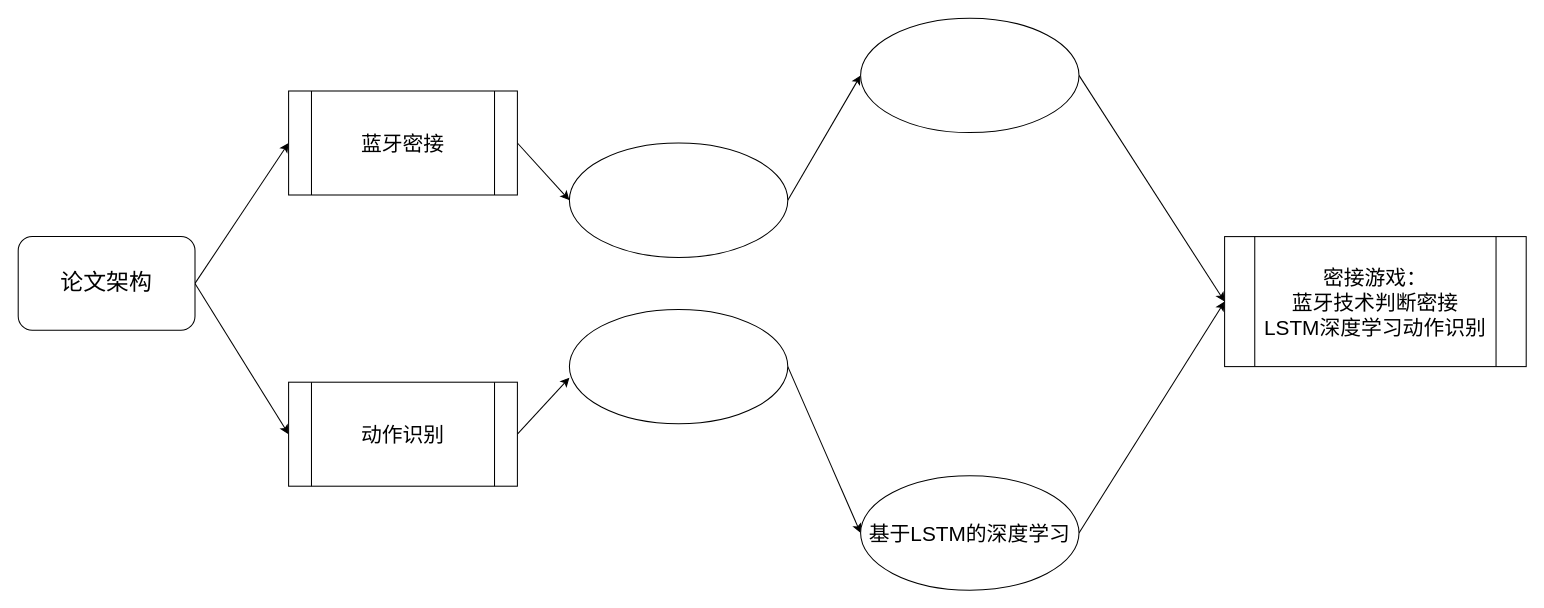
Some shapes in this 1544 by 608 pixel diagram are drawn without their labels. Here are the shapes that lost their labels. From the top down, the box of each, then its label:
(860, 17, 1079, 133): 基于蓝牙技术的密接
(568, 142, 788, 257): 蓝牙技术优缺点
(568, 308, 788, 424): RNN深度学习优缺点
